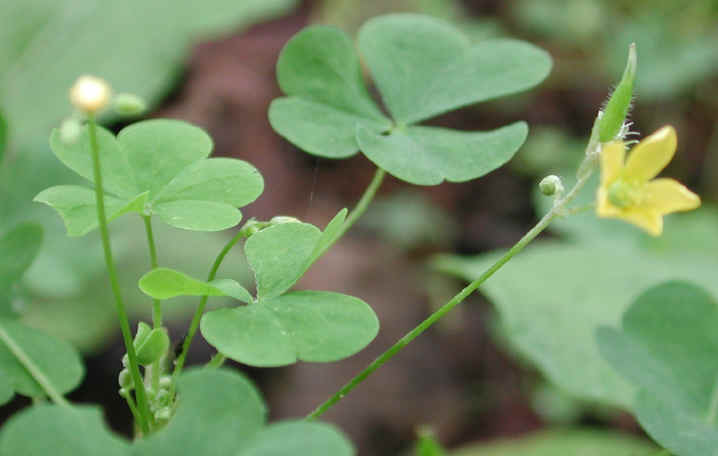oxalis: (70, 113, 360, 456), (212, 31, 599, 174)
